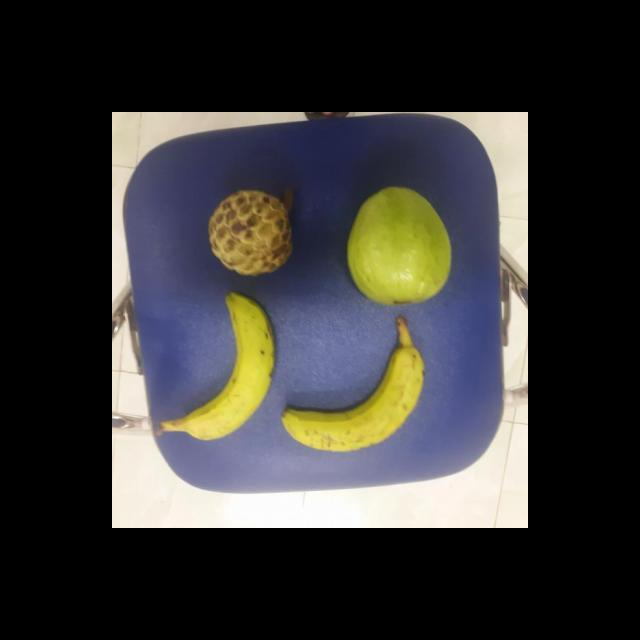banana: (283, 342, 429, 455), (182, 294, 276, 446)
guava: (347, 186, 452, 306), (202, 189, 296, 278)
